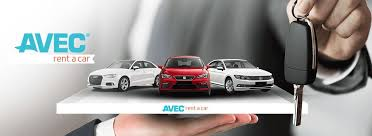car: (90, 57, 163, 91), (202, 60, 274, 90), (159, 56, 213, 95)
